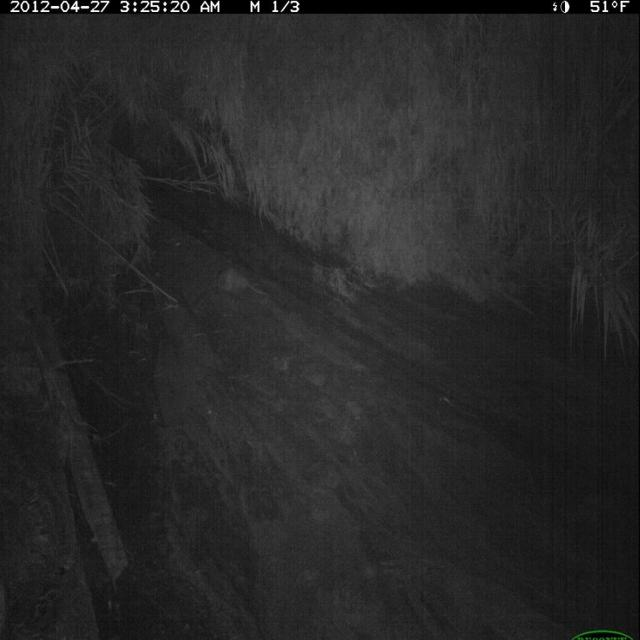opossum: (209, 259, 280, 309)
